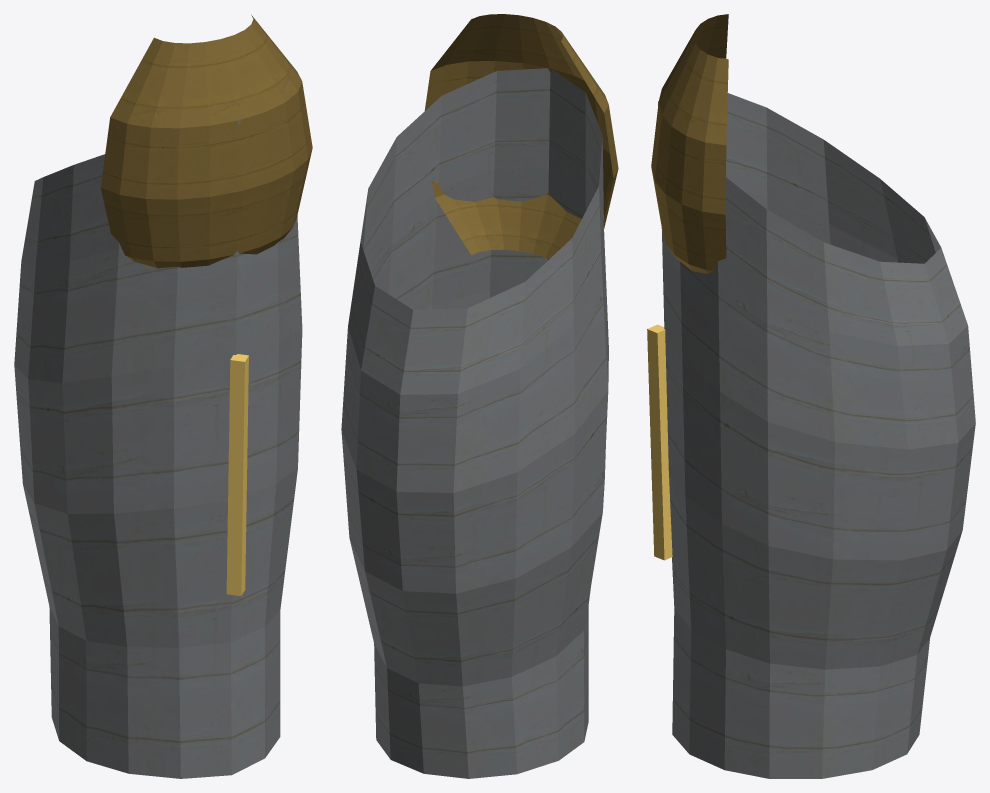
The model's file is eq_past_2_leg.glb.
The picture shows the model from 3 angles, left to right: view 1: azimuth 30°, elevation 25°; view 2: azimuth 150°, elevation 25°; view 3: azimuth 270°, elevation 25°; orthographic projection. The views are drawn at different scales.
Visible parts, largest first — view 1: eq_past_2_leg; view 2: eq_past_2_leg; view 3: eq_past_2_leg.
Part boxes in pixels (left/top/right/bottom): eq_past_2_leg: left=14, top=14, right=312, bottom=778; eq_past_2_leg: left=341, top=14, right=618, bottom=778; eq_past_2_leg: left=647, top=14, right=975, bottom=778.
Size of the model in its own units: 0.1539 by 0.4472 by 0.1909.
Materials: 3 (3 with a texture image).
